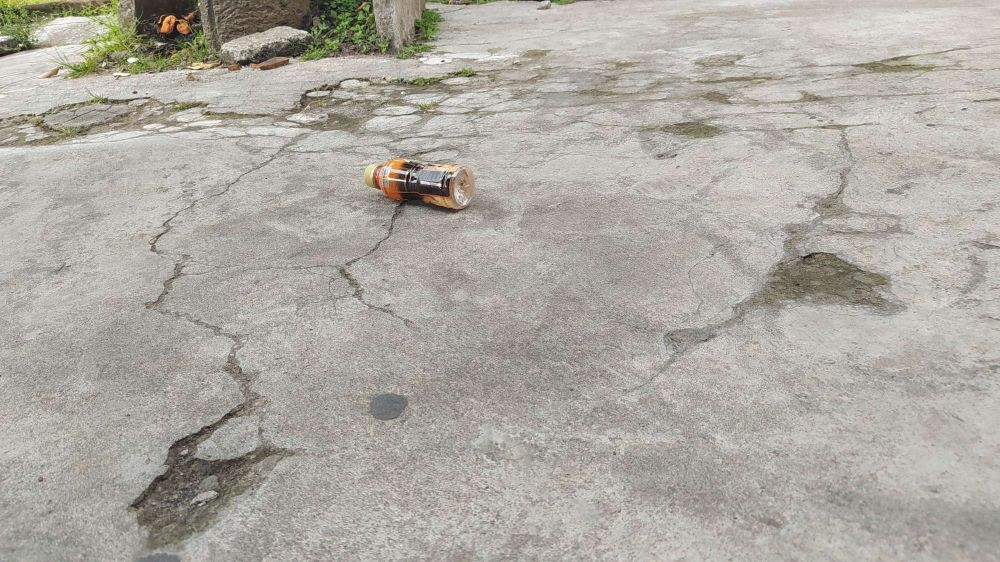botol: (338, 144, 482, 224)
